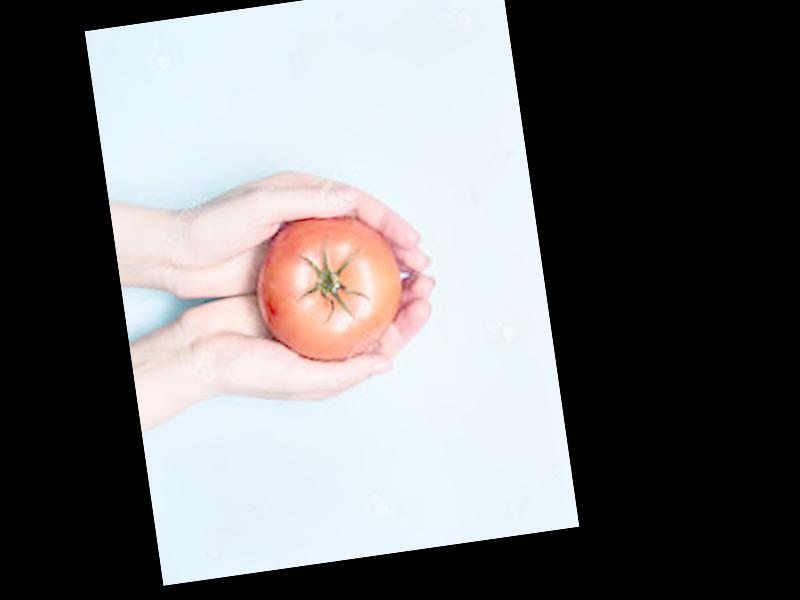Tomato: (248, 203, 410, 369)
